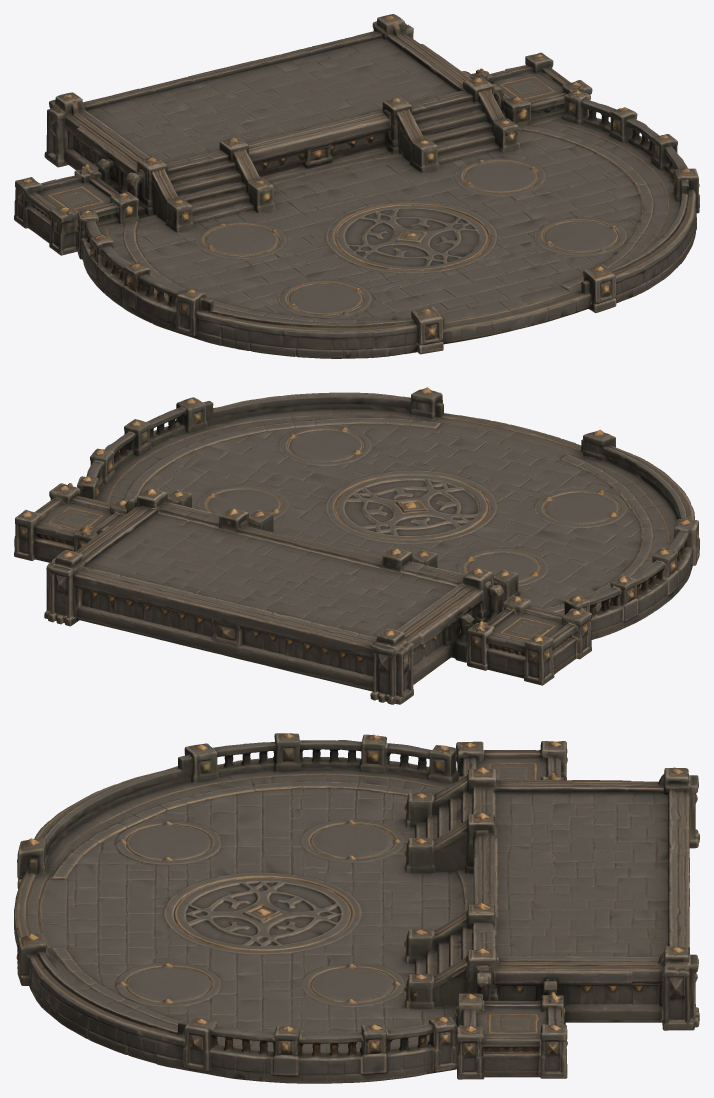
Rendered from dashboard-arena-base.glb.
The picture shows the model from 3 angles, top to bottom: view 1: azimuth 30°, elevation 25°; view 2: azimuth 150°, elevation 25°; view 3: azimuth 270°, elevation 25°; orthographic projection. The views are drawn at different scales.
Visible parts, largest first — view 1: Dashboard_Arena; view 2: Dashboard_Arena; view 3: Dashboard_Arena.
Boxes of the visible parts, <box> form: Dashboard_Arena: <box>14,14,699,358</box>; Dashboard_Arena: <box>14,387,699,704</box>; Dashboard_Arena: <box>14,733,699,1083</box>.
Size of the model in its own units: 1 by 0.1156 by 0.9531.
Materials: 1 (1 with a texture image).
